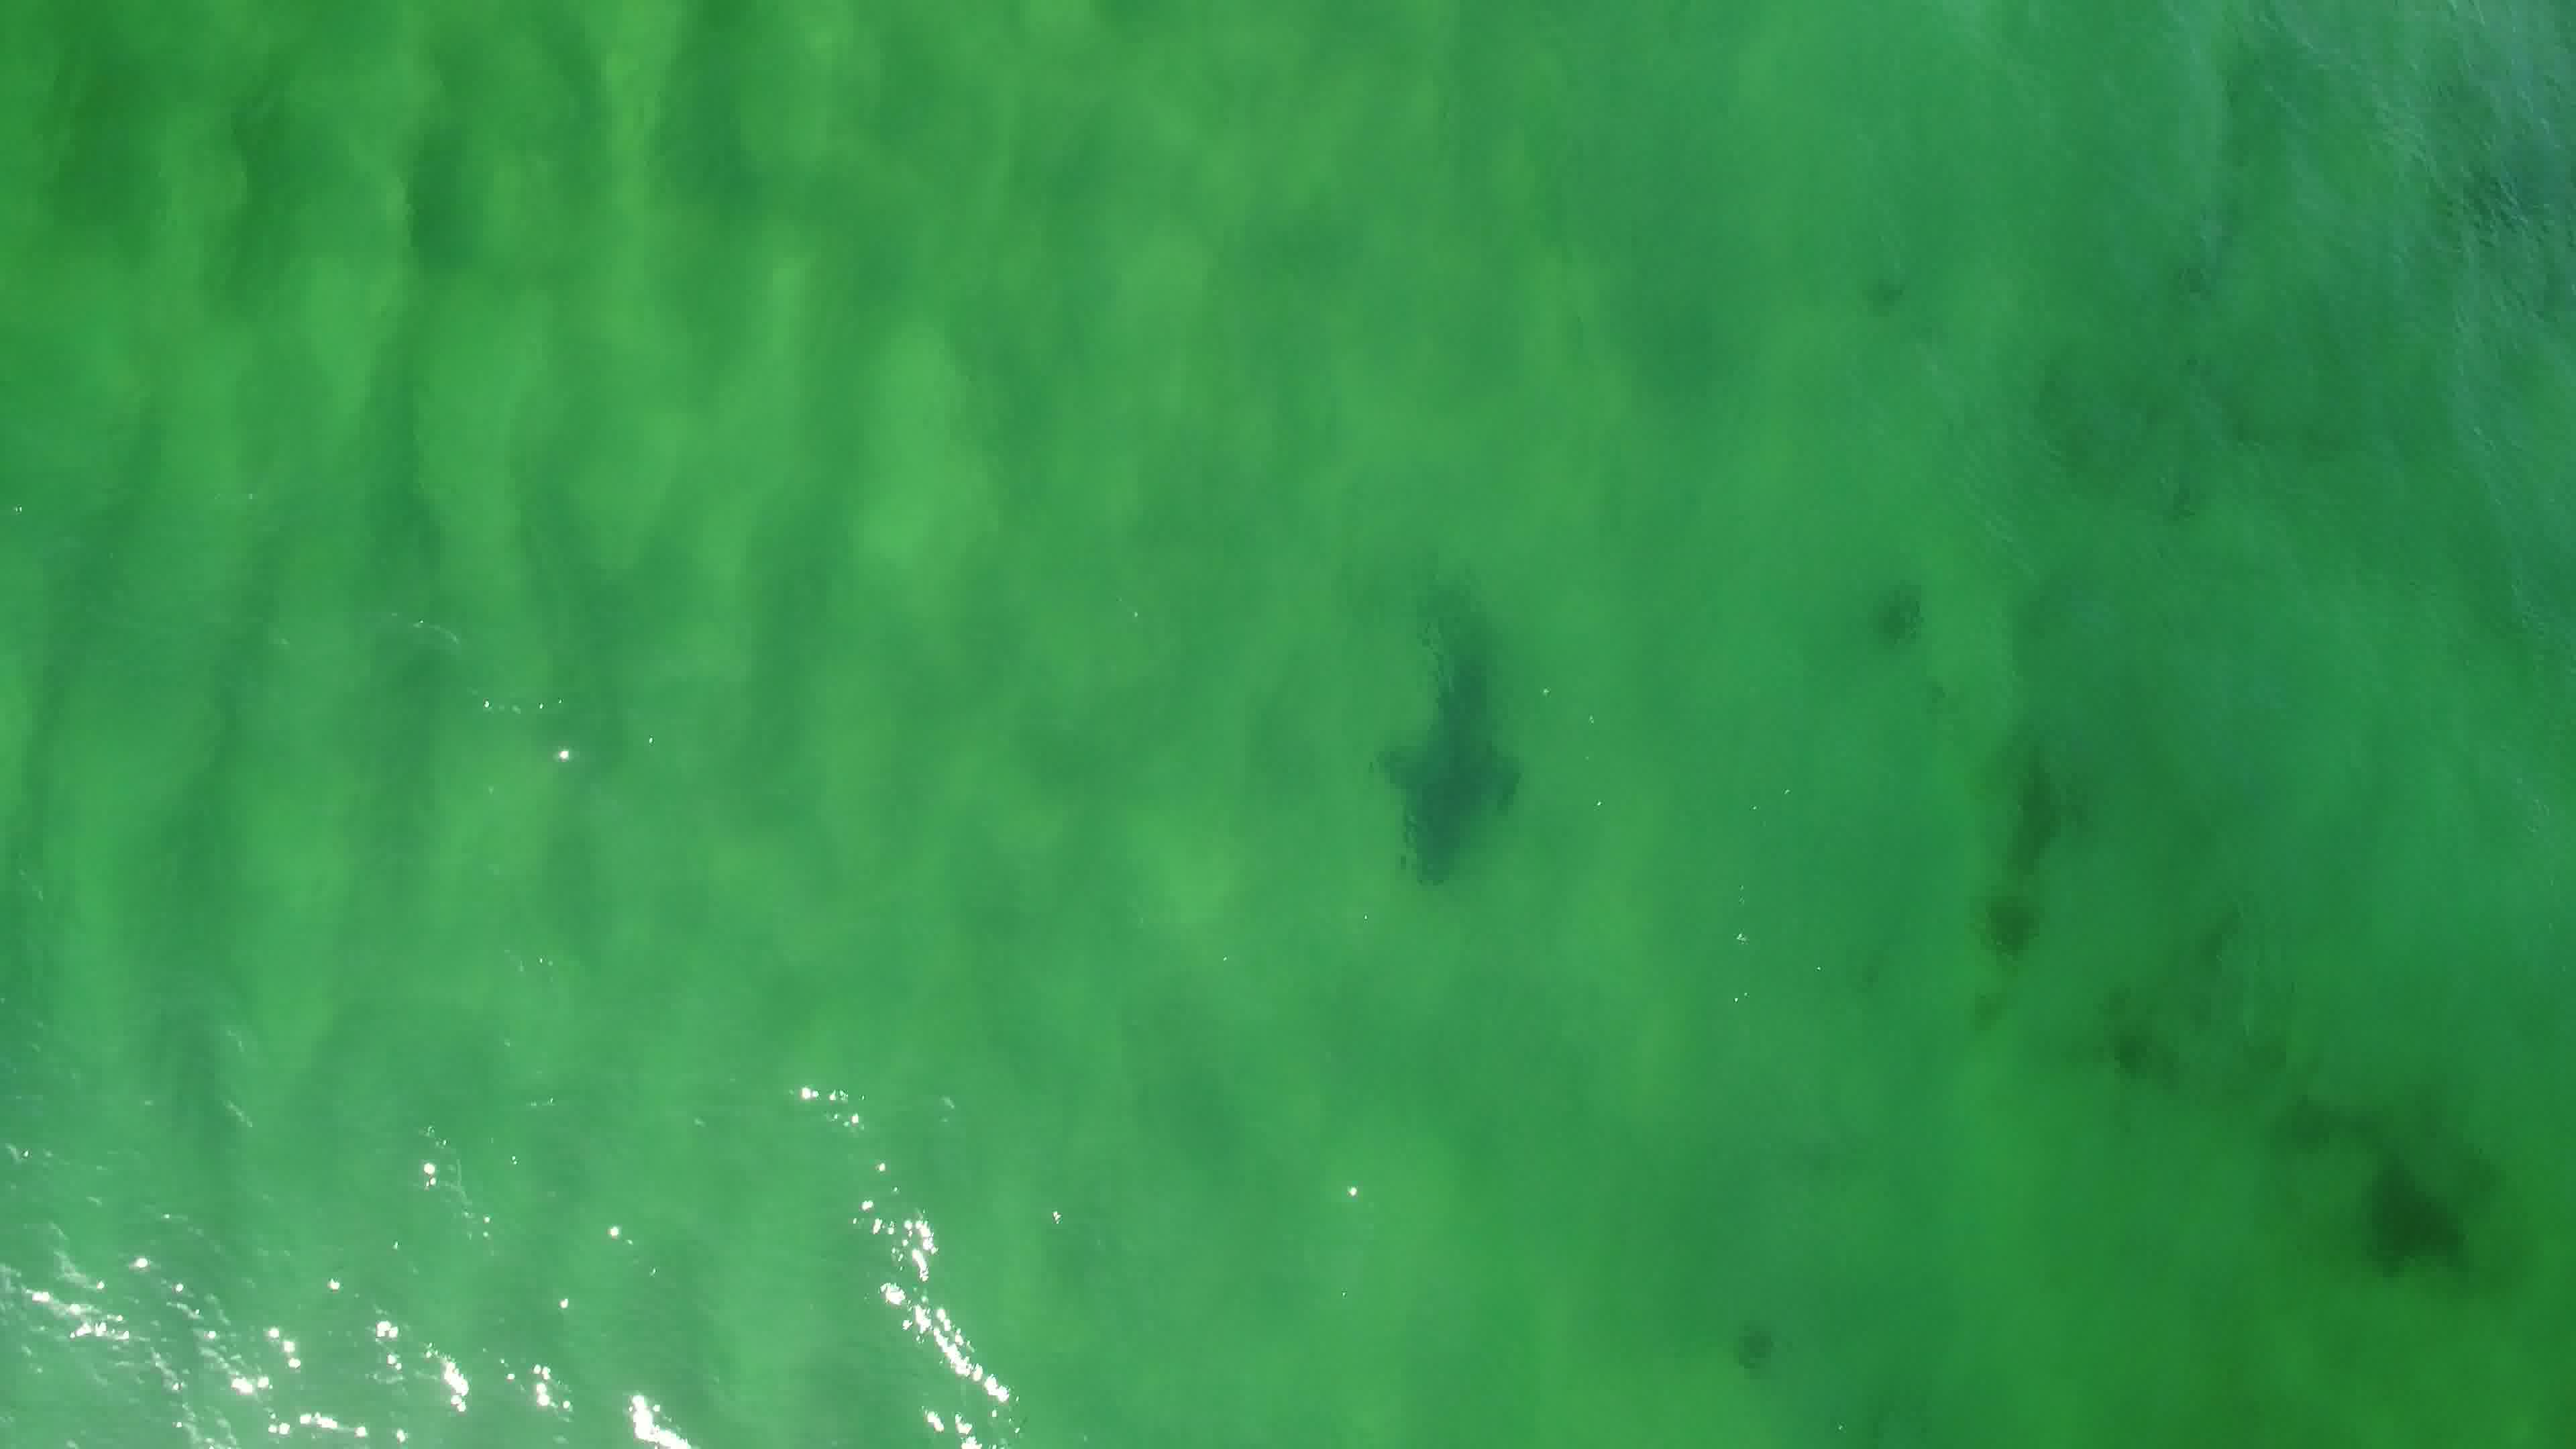shark: (1368, 596, 1532, 899)
